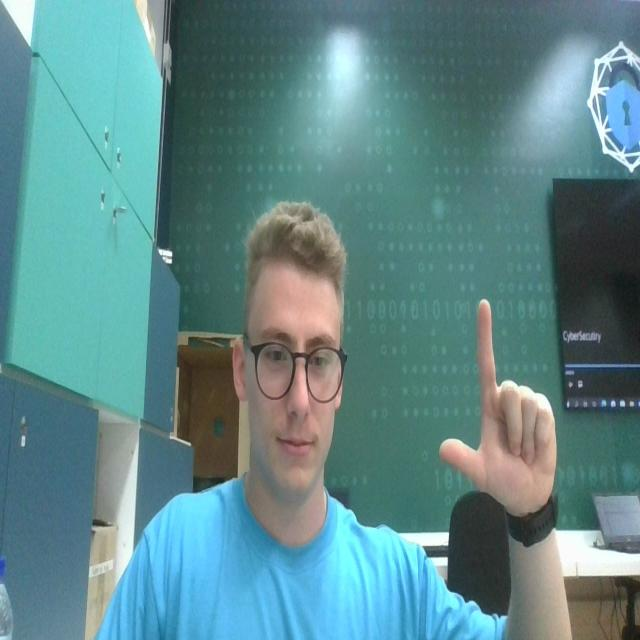L: (438, 278, 559, 524)
